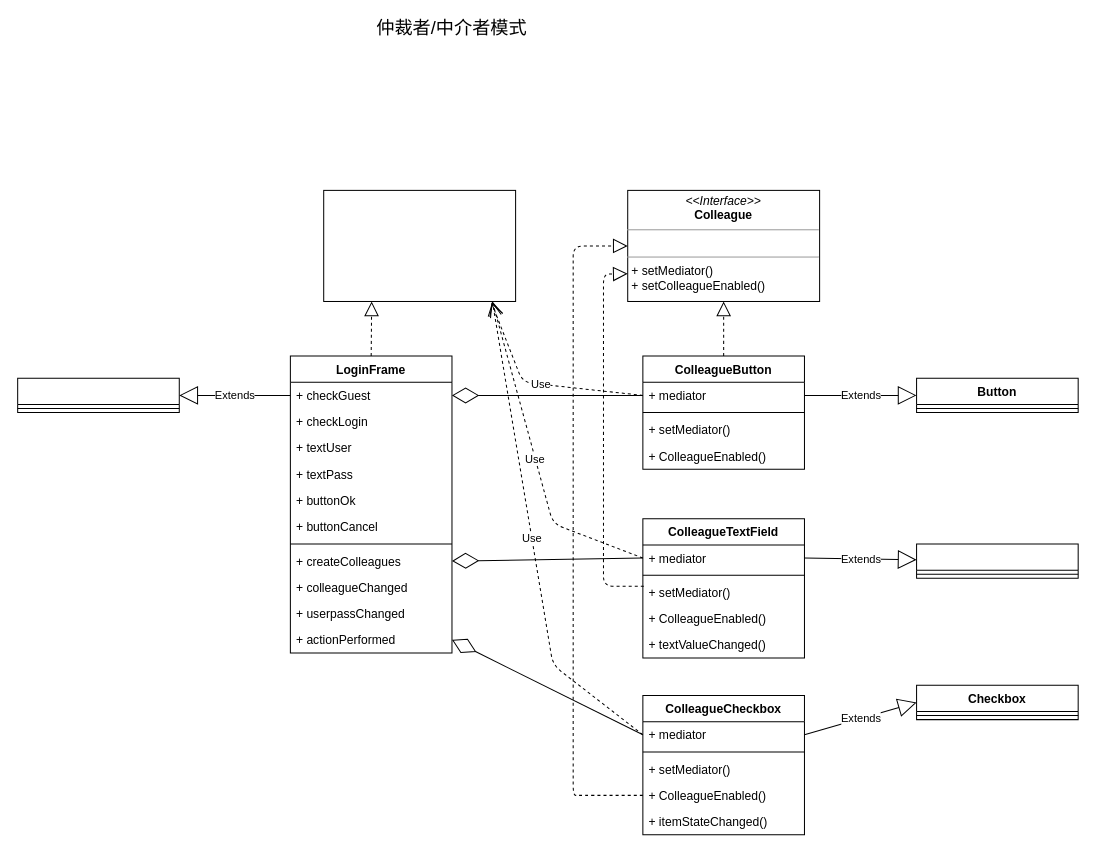
Some shapes in this 1096 by 854 pixel diagram are drawn without their labels. Here are the shapes that lost their labels. From the top down, the box of each, then its label:
(323, 189, 516, 301): <<Interface>> Mediator + createColleagues() + colleagueChanged()
(17, 377, 179, 413): Frame
(916, 543, 1078, 578): TextField
